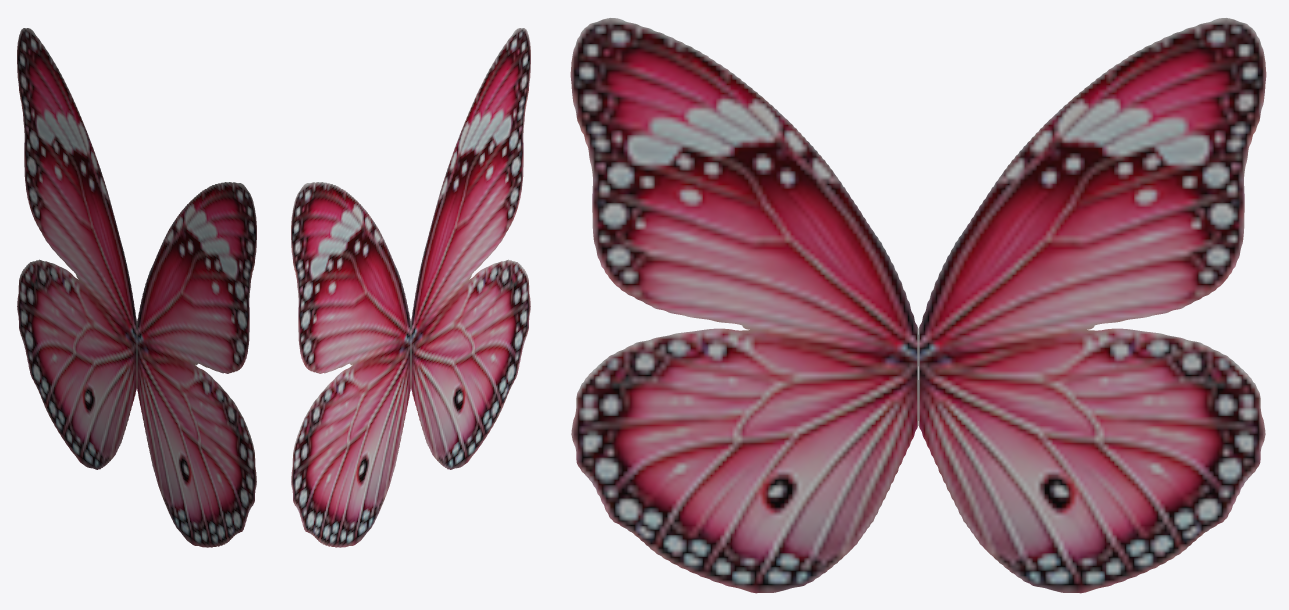
File: butterfly-swarm-v2a.glb
3 views of the same model, side by side, from view 1: azimuth 30°, elevation 25°; view 2: azimuth 150°, elevation 25°; view 3: azimuth 270°, elevation 25° (orthographic). The views are drawn at different scales.
Parts seen in each view (by area): view 1: wingR, wingL; view 2: wingL, wingR; view 3: wingR, wingL.
Boxes of the visible parts, x1,y1,x2,y2 form: wingR: (17,28,136,469); wingL: (137,182,256,547); wingL: (411,28,530,469); wingR: (291,182,410,547); wingR: (918,18,1266,593); wingL: (570,18,918,593).
Bounding box in the file's own units: 5.12e-07 × 2 × 2.22.
Materials: 1 (1 with a texture image).
